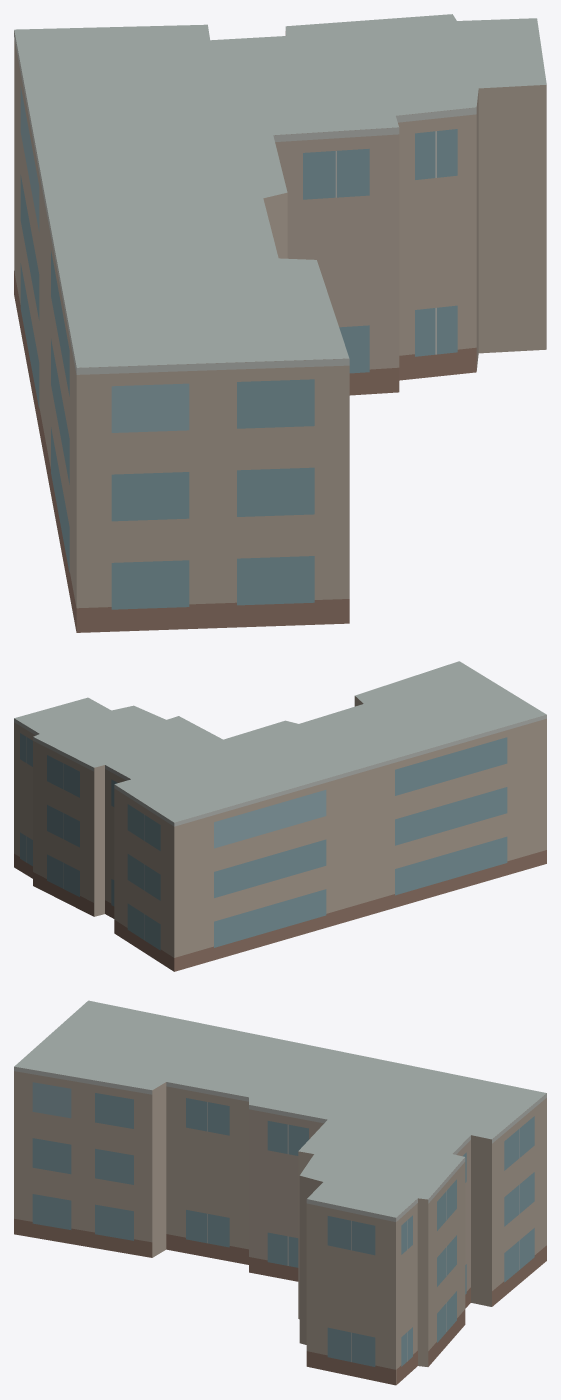
The model's file is survey-upis-32603598.glb.
The picture shows the model from 3 angles, top to bottom: view 1: azimuth 30°, elevation 25°; view 2: azimuth 150°, elevation 25°; view 3: azimuth 270°, elevation 25°; orthographic projection. The views are drawn at different scales.
Visible parts, largest first — view 1: survey-upis-32603598.tmp; view 2: survey-upis-32603598.tmp; view 3: survey-upis-32603598.tmp.
Boxes of the visible parts, <box> form: survey-upis-32603598.tmp: <box>14,14,546,632</box>; survey-upis-32603598.tmp: <box>14,661,546,971</box>; survey-upis-32603598.tmp: <box>14,1000,546,1385</box>.
Bounding box in the file's own units: 25.44 × 9.15 × 26.36.
